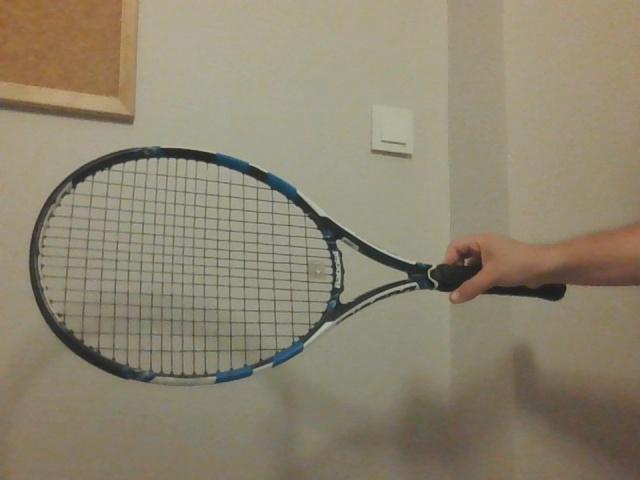Tennis-Racket: (29, 146, 565, 388)
